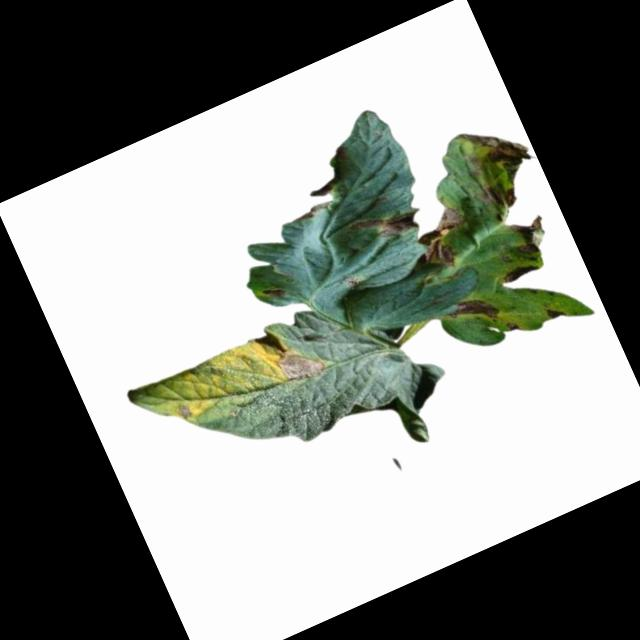Early_blight: (458, 107, 538, 190), (411, 202, 481, 276), (351, 196, 423, 252), (273, 341, 327, 391), (448, 289, 502, 335), (473, 177, 521, 222), (511, 213, 556, 260), (499, 258, 543, 289), (262, 281, 289, 306), (543, 302, 566, 326), (174, 400, 197, 423), (504, 320, 519, 336)
